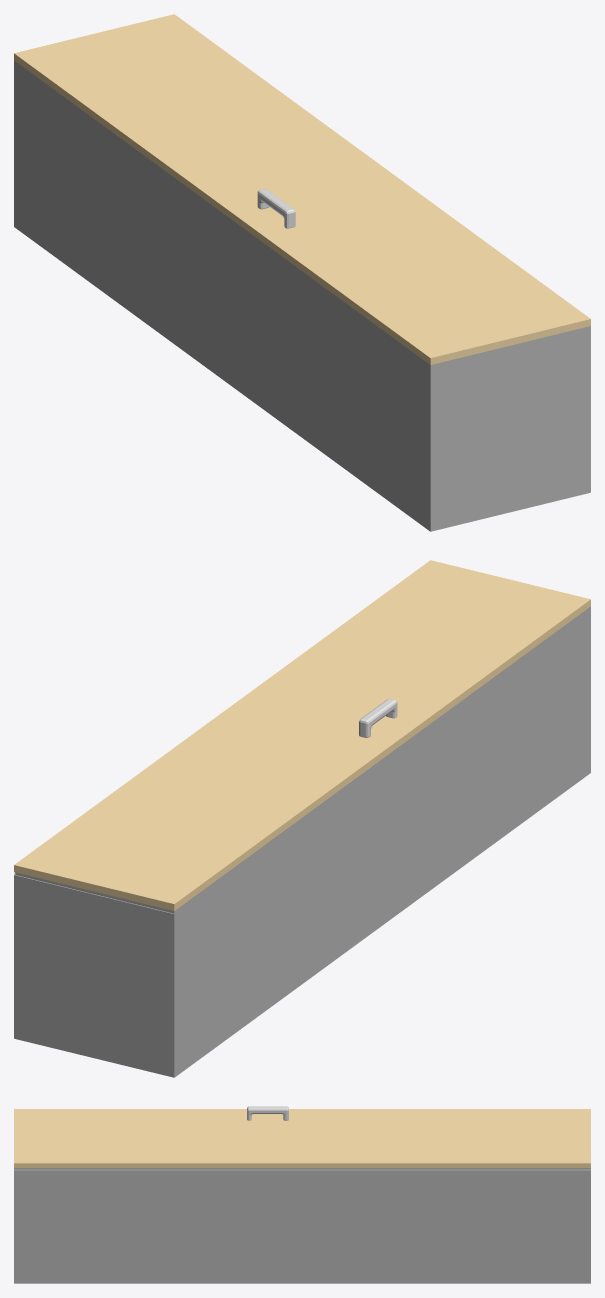
The picture shows the model from 3 angles, top to bottom: view 1: azimuth 30°, elevation 25°; view 2: azimuth 150°, elevation 25°; view 3: azimuth 270°, elevation 25°; orthographic projection. The views are drawn at different scales.
Visible parts, largest first — view 1: Cube; view 2: Cube; view 3: Cube.
Part boxes in pixels (box(x1,y1,x2,y2)): Cube: box(14, 14, 590, 531); Cube: box(14, 560, 590, 1077); Cube: box(14, 1106, 590, 1283).
Bounding box in the file's own units: 44.48 × 50.47 × 200.
